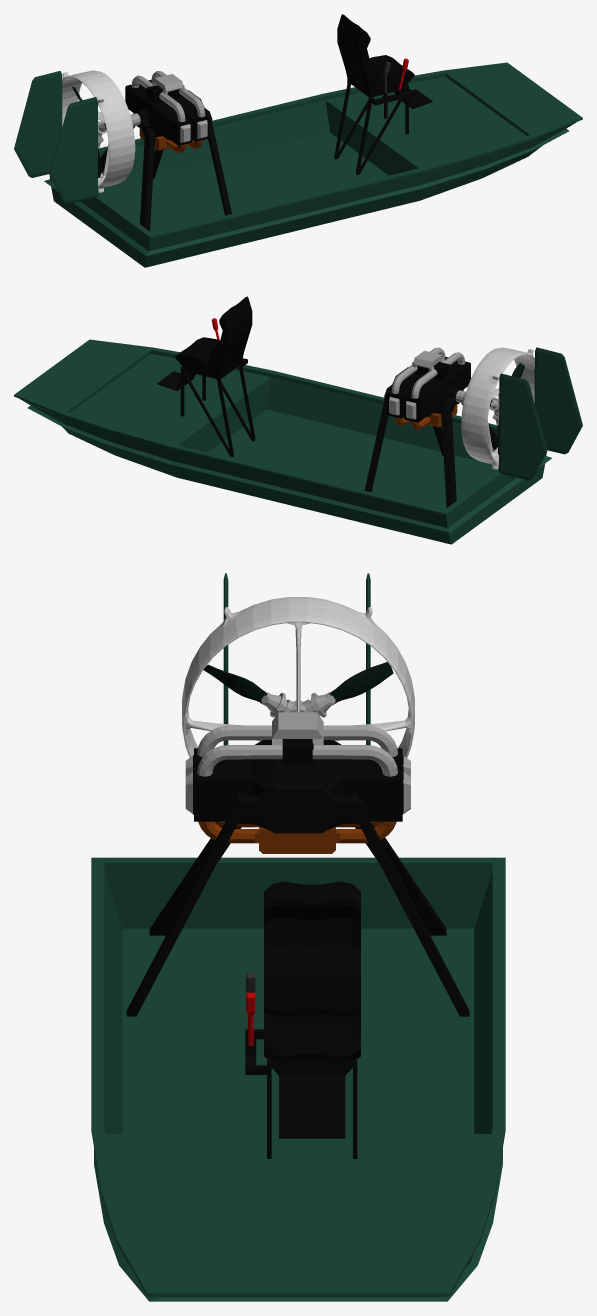
The model's file is airboat.obj.
The picture shows the model from 3 angles, top to bottom: view 1: azimuth 30°, elevation 25°; view 2: azimuth 150°, elevation 25°; view 3: azimuth 270°, elevation 25°; orthographic projection. The views are drawn at different scales.
Visible parts, largest first — view 1: boat, rudder, shroud, seat, emounts, stand, engine, intakes, cylinders, exhaust, heads; view 2: boat, rudder, shroud, seat, emounts, stand, engine, intakes, cylinders, exhaust, heads; view 3: boat, seat, emounts, shroud, stand, intakes, engine, cylinders, exhaust, prop, rudder, hub.
Part boxes in pixels (x1=…): boat: x1=44, y1=62, x2=582, y2=267; rudder: x1=14, y1=71, x2=97, y2=203; shroud: x1=62, y1=70, x2=135, y2=192; seat: x1=337, y1=14, x2=414, y2=95; emounts: x1=100, y1=90, x2=231, y2=231; stand: x1=334, y1=78, x2=432, y2=174; engine: x1=134, y1=85, x2=196, y2=139; intakes: x1=131, y1=71, x2=205, y2=121; cylinders: x1=125, y1=79, x2=209, y2=145; exhaust: x1=133, y1=113, x2=202, y2=152; heads: x1=180, y1=120, x2=207, y2=142; boat: x1=14, y1=339, x2=551, y2=544; rudder: x1=499, y1=347, x2=582, y2=480; shroud: x1=461, y1=347, x2=534, y2=469; seat: x1=175, y1=296, x2=252, y2=377; emounts: x1=364, y1=367, x2=498, y2=507; stand: x1=157, y1=358, x2=255, y2=456; engine: x1=399, y1=362, x2=462, y2=416; intakes: x1=391, y1=347, x2=464, y2=398; cylinders: x1=387, y1=356, x2=470, y2=422; exhaust: x1=394, y1=389, x2=463, y2=429; heads: x1=389, y1=397, x2=416, y2=419; boat: x1=91, y1=857, x2=505, y2=1301; seat: x1=264, y1=881, x2=360, y2=1062; emounts: x1=126, y1=784, x2=469, y2=1016; shroud: x1=182, y1=597, x2=414, y2=757; stand: x1=245, y1=1029, x2=357, y2=1158; intakes: x1=197, y1=712, x2=397, y2=776; engine: x1=230, y1=739, x2=366, y2=830; cylinders: x1=193, y1=748, x2=403, y2=821; exhaust: x1=198, y1=821, x2=396, y2=853; prop: x1=203, y1=662, x2=393, y2=703; rudder: x1=223, y1=573, x2=370, y2=745; hub: x1=261, y1=692, x2=335, y2=717.
Bounding box in the file's own units: 16.23 × 4.8 × 5.68.
